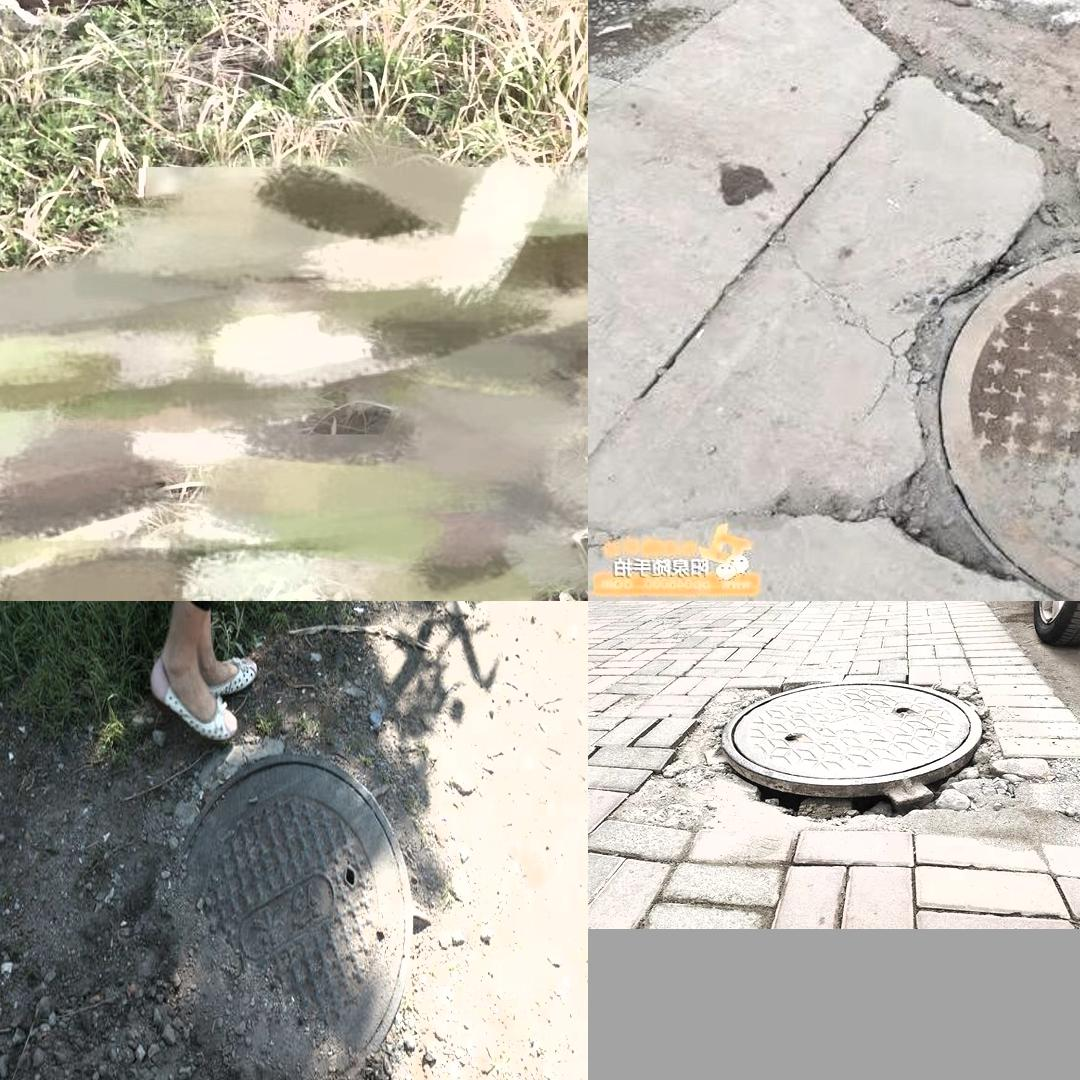circle: (111, 743, 474, 1080), (806, 216, 1080, 592), (619, 681, 1049, 830), (0, 0, 351, 32)
